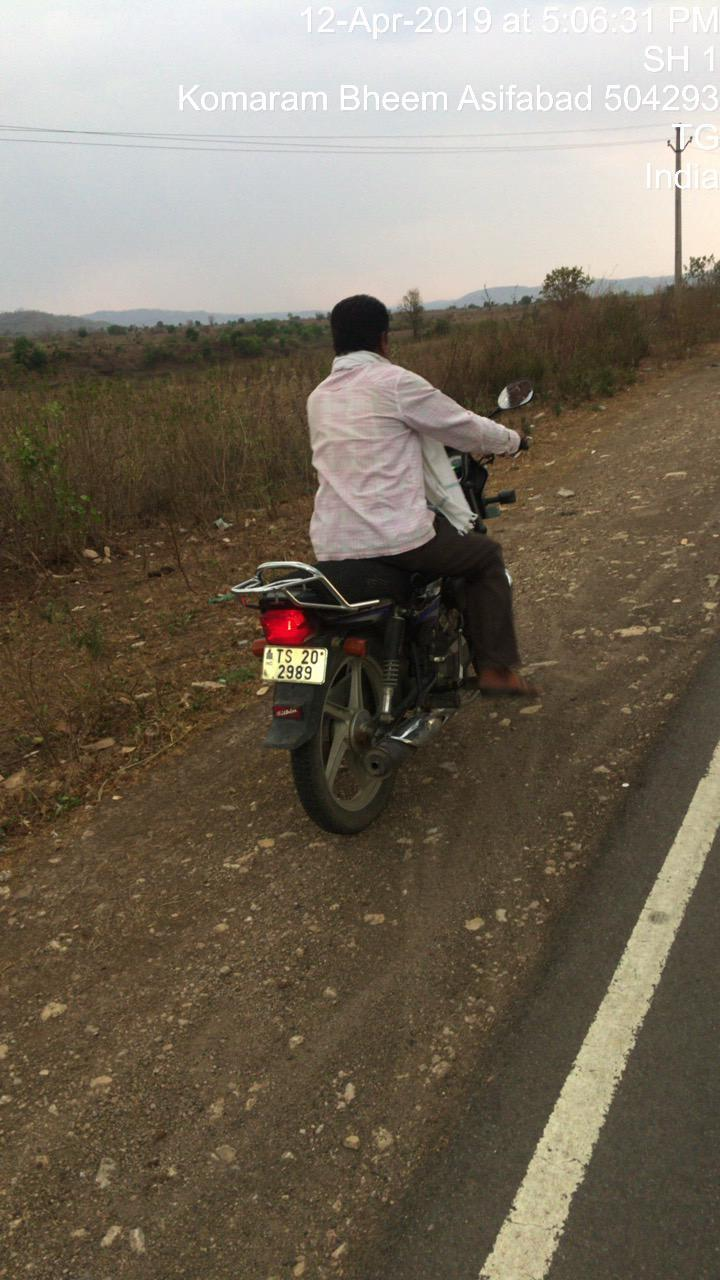plate: (254, 644, 343, 694)
